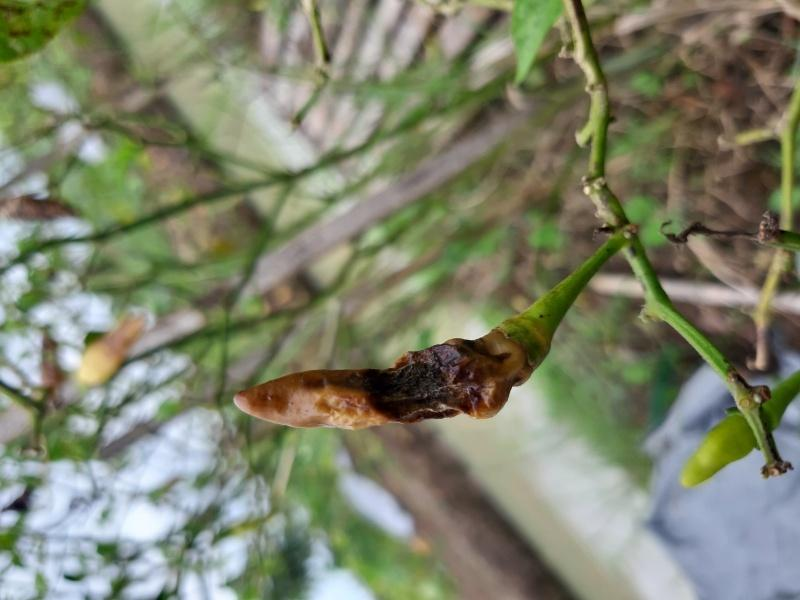antraknosa: (234, 324, 534, 430)
cabai_normal: (680, 411, 753, 493)
